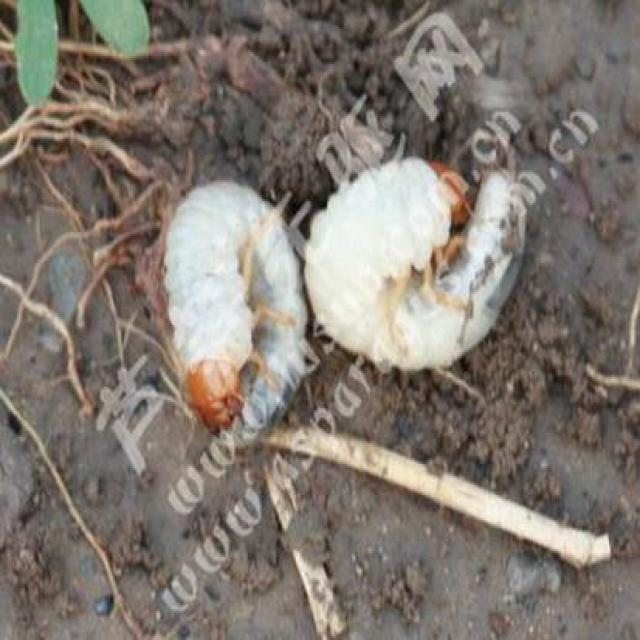Grub-Adult-: (302, 149, 529, 380), (158, 176, 312, 462)
